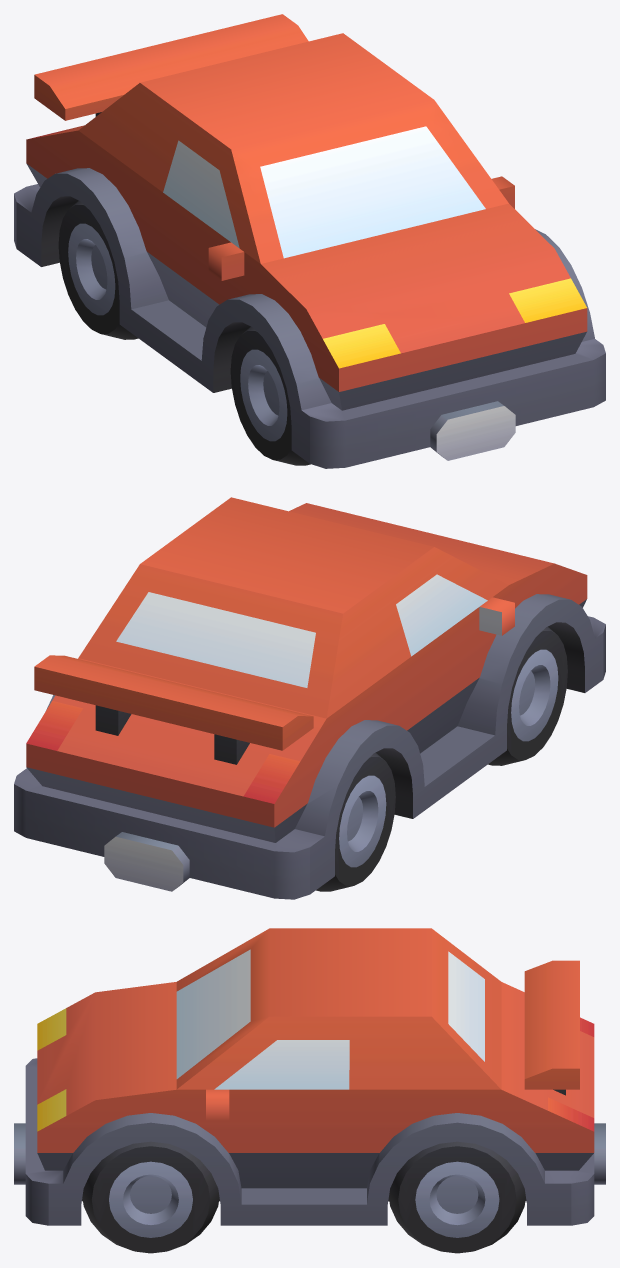
Rendered from k-car-sedan-sports.glb.
3 renders of one model, top to bottom at view 1: azimuth 30°, elevation 25°; view 2: azimuth 150°, elevation 25°; view 3: azimuth 270°, elevation 25°, orthographic. The views are drawn at different scales.
Parts seen in each view (by area): view 1: body, spoiler, wheel-back-right, wheel-front-right; view 2: body, spoiler, wheel-back-right, wheel-front-right; view 3: body, wheel-front-left, wheel-back-left, spoiler.
Part boxes in pixels (x1,y1,x2,y2): body: [14, 33, 605, 468]; spoiler: [34, 14, 308, 120]; wheel-back-right: [58, 200, 138, 339]; wheel-front-right: [230, 326, 310, 465]; body: [14, 497, 605, 899]; spoiler: [34, 655, 313, 764]; wheel-back-right: [316, 752, 395, 891]; wheel-front-right: [488, 626, 567, 765]; body: [14, 928, 605, 1225]; wheel-front-left: [82, 1141, 219, 1253]; wheel-back-left: [389, 1141, 525, 1253]; spoiler: [524, 960, 579, 1095].
Size of the model in its own units: 1.3 by 1.1 by 2.55.
1 material, 1 textured.
